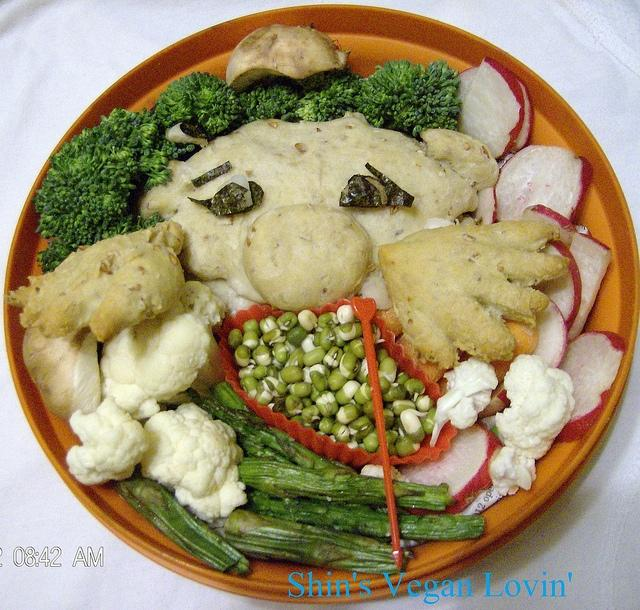asparagus: (111, 471, 252, 578), (237, 486, 485, 540), (238, 460, 458, 511), (224, 506, 416, 564), (202, 396, 348, 470), (236, 433, 359, 512), (223, 534, 398, 574)
broccoli: (31, 106, 195, 274), (355, 59, 463, 141), (156, 71, 244, 136), (294, 66, 363, 123), (238, 78, 304, 125)
cauliflower: (140, 402, 248, 524), (99, 309, 211, 421), (494, 354, 576, 459), (66, 396, 148, 486), (430, 357, 499, 448), (488, 446, 536, 497)
mushroom: (243, 203, 375, 313), (226, 24, 352, 92)
radish: (394, 422, 504, 515), (554, 332, 626, 442), (496, 144, 593, 223), (455, 56, 524, 160), (457, 66, 535, 155), (528, 240, 582, 334), (566, 232, 612, 341), (530, 299, 568, 369), (522, 204, 573, 250)
